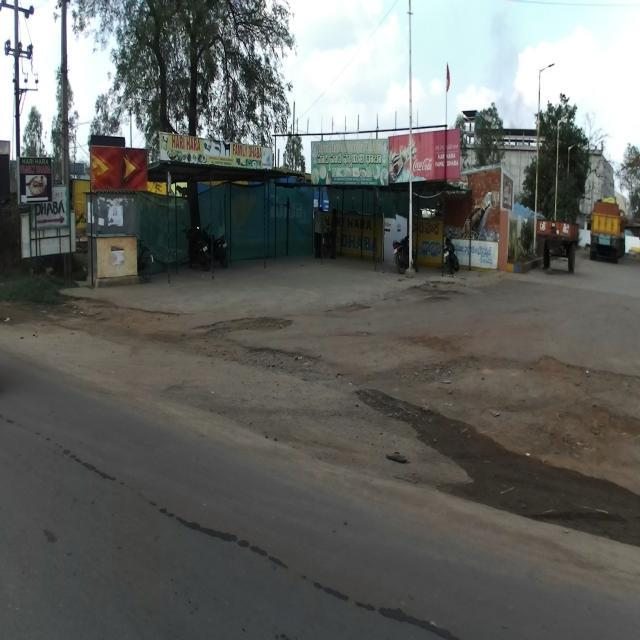pothole: (383, 303, 640, 448), (190, 299, 338, 435), (517, 463, 640, 586), (57, 295, 180, 397)
